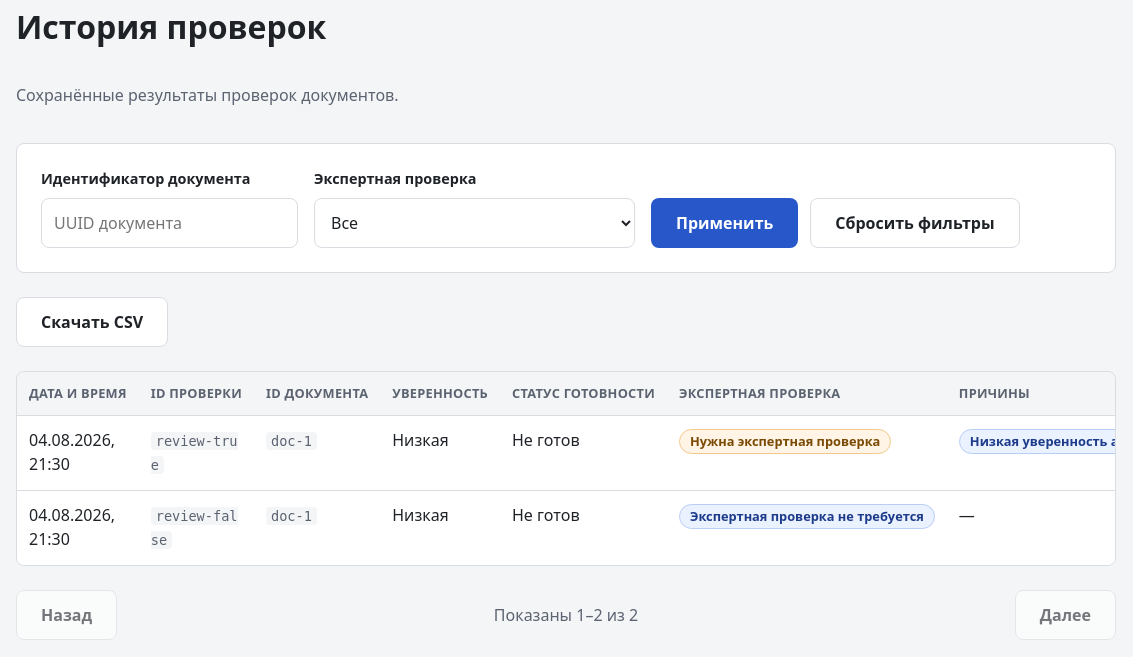
it: ReviewsDashboardPage › needs_review filter отправляется в API
The image size is (1133, 657).
Expected: the table is shown, top-left (17, 372), bottom-right (1116, 565)
Select "Нужна экспертная проверка" in the dropdown labelled "Экспертная проверка" at (474, 223), box top-left (314, 198), bottom-right (635, 248)
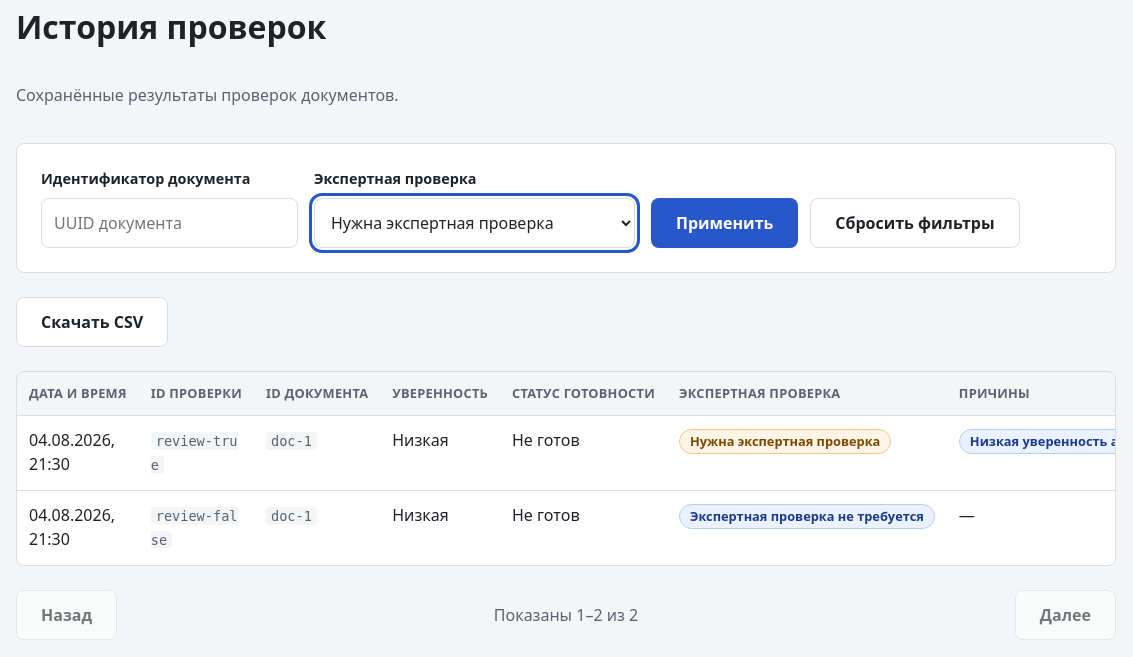
Click the button "Применить" at (725, 223), box top-left (651, 198), bottom-right (798, 248)
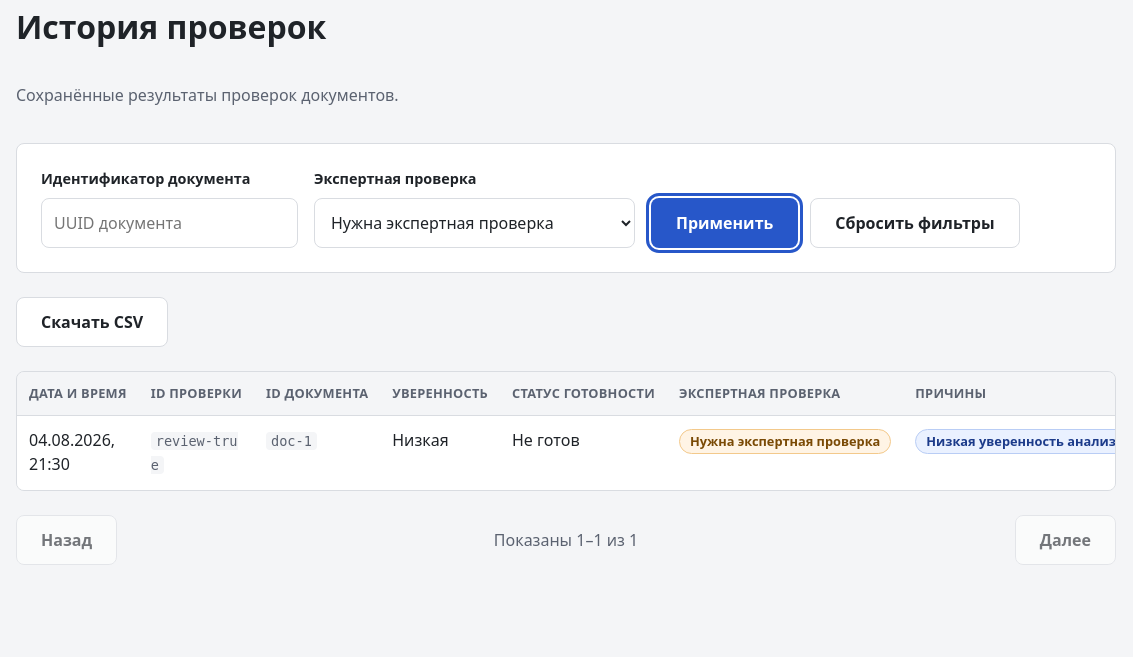
Expected: the text "review-true" is shown, top-left (151, 432), bottom-right (238, 474)
Expected: the text "review-false" is gone
